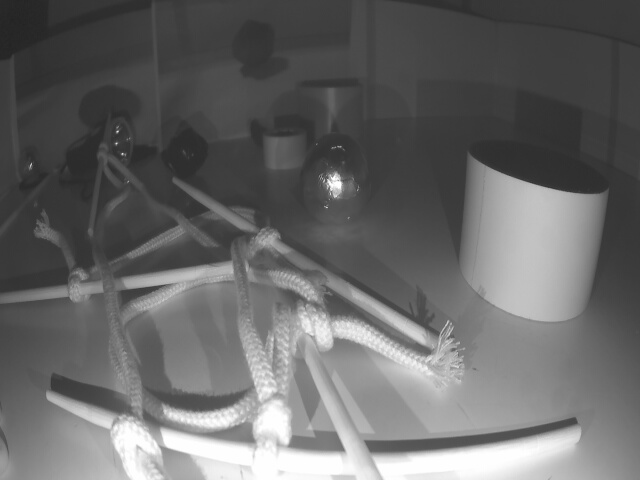Dead: (166, 132, 210, 175)
Live: (298, 128, 368, 229), (16, 150, 41, 184)
